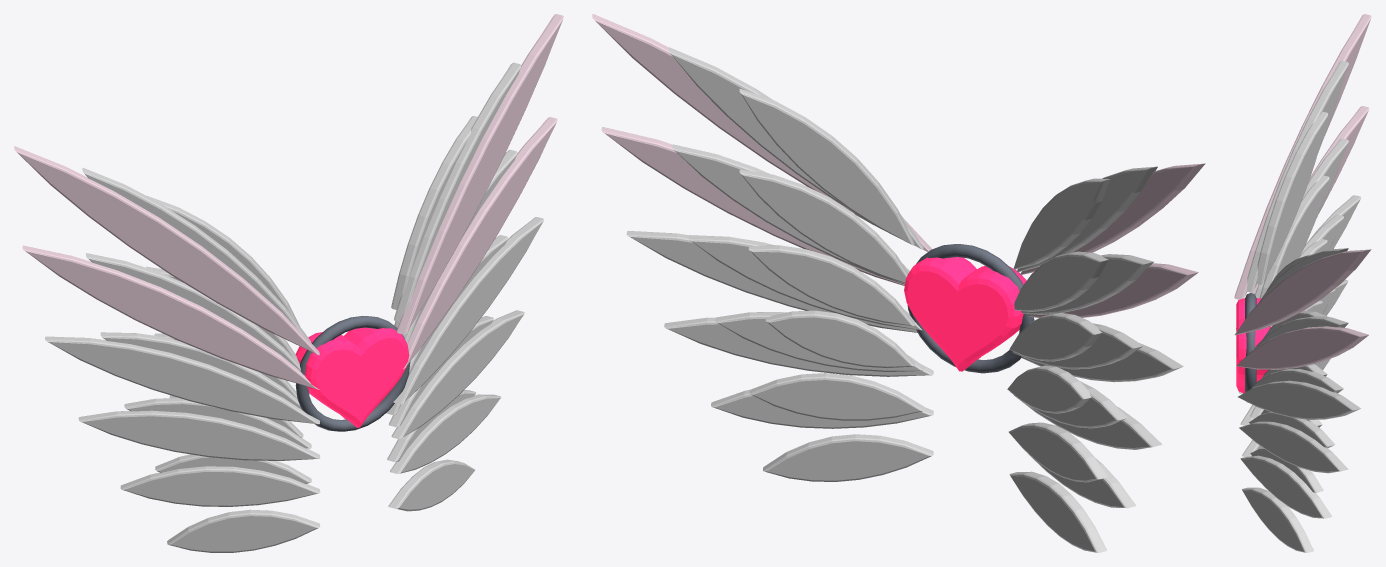
File: back_eqmo0.glb
The picture shows the model from 3 angles, left to right: view 1: azimuth 30°, elevation 25°; view 2: azimuth 150°, elevation 25°; view 3: azimuth 270°, elevation 25°; orthographic projection. The views are drawn at different scales.
Bounding box in the file's own units: 3.88 × 2.76 × 0.9483.
